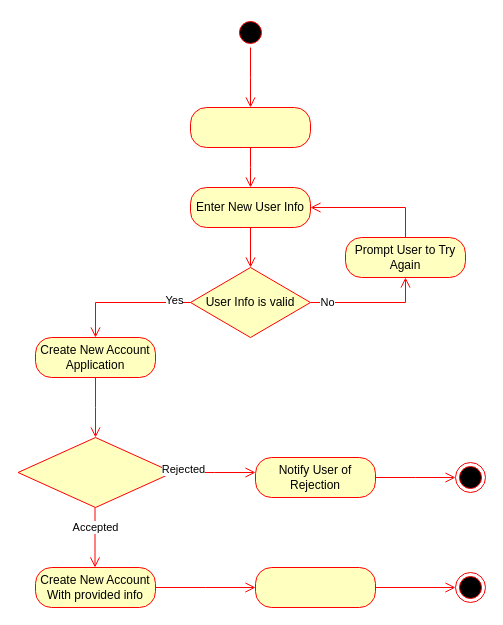
Some shapes in this 503 by 625 pixel diagram are drawn without their labels. Each missing label, with the box of its shape:
Access Registration Page: (190, 106, 310, 148)
Admin Accepts or Rejects Application: (17, 436, 173, 508)
Notify User of Account Creation: (254, 566, 376, 608)
